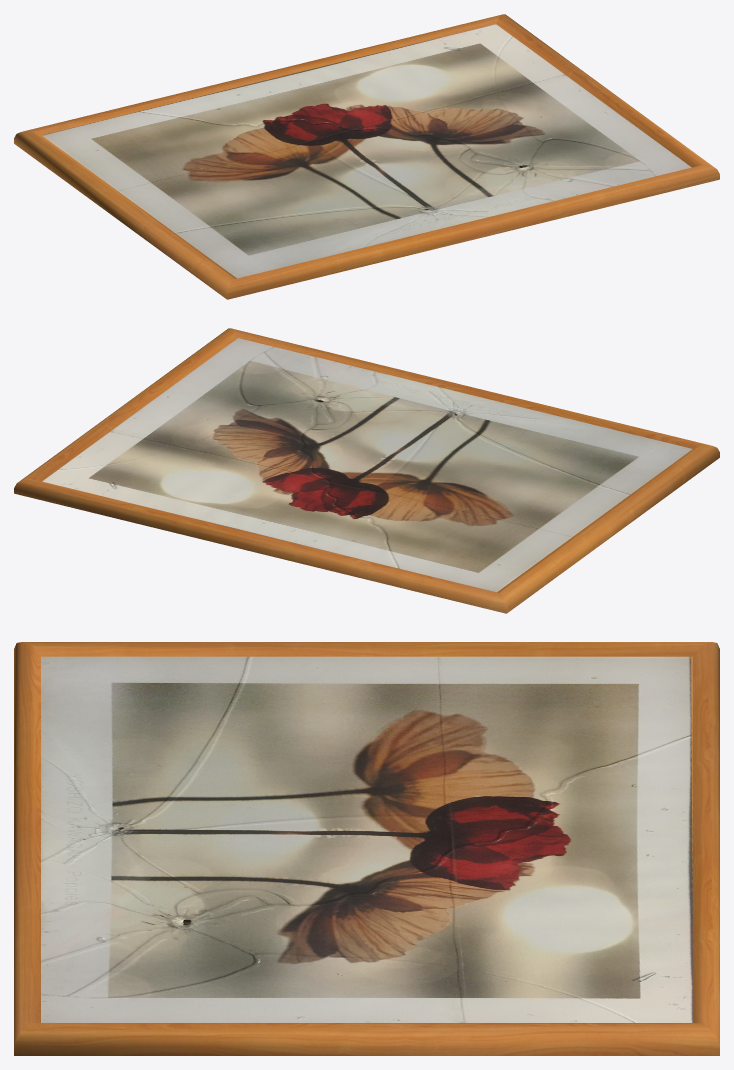
File: paintingBullets.fbx
3 views of the same model, one above another, from view 1: azimuth 30°, elevation 25°; view 2: azimuth 150°, elevation 25°; view 3: azimuth 270°, elevation 25° (orthographic). The views are drawn at different scales.
Parts seen in each view (by area): view 1: paintingBullets; view 2: paintingBullets; view 3: paintingBullets.
Part boxes in pixels (bbox=[...]): paintingBullets: bbox=[14, 14, 719, 299]; paintingBullets: bbox=[14, 328, 719, 613]; paintingBullets: bbox=[14, 642, 719, 1055].
Bounding box in the file's own units: 1.57 × 0.043 × 1.18.
1 material, 1 textured.
